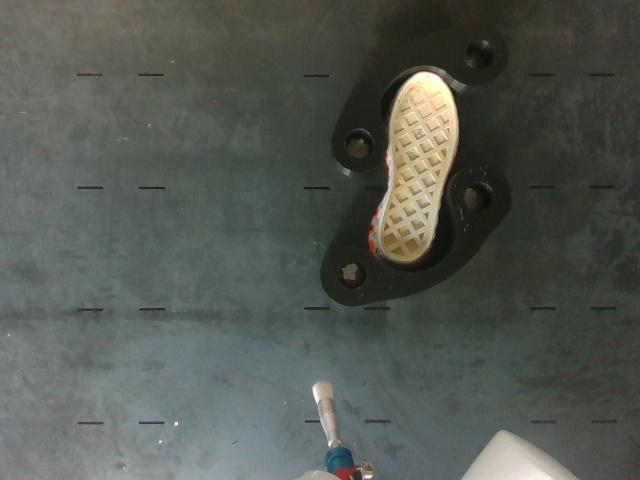shoes: (380, 72, 456, 262)
